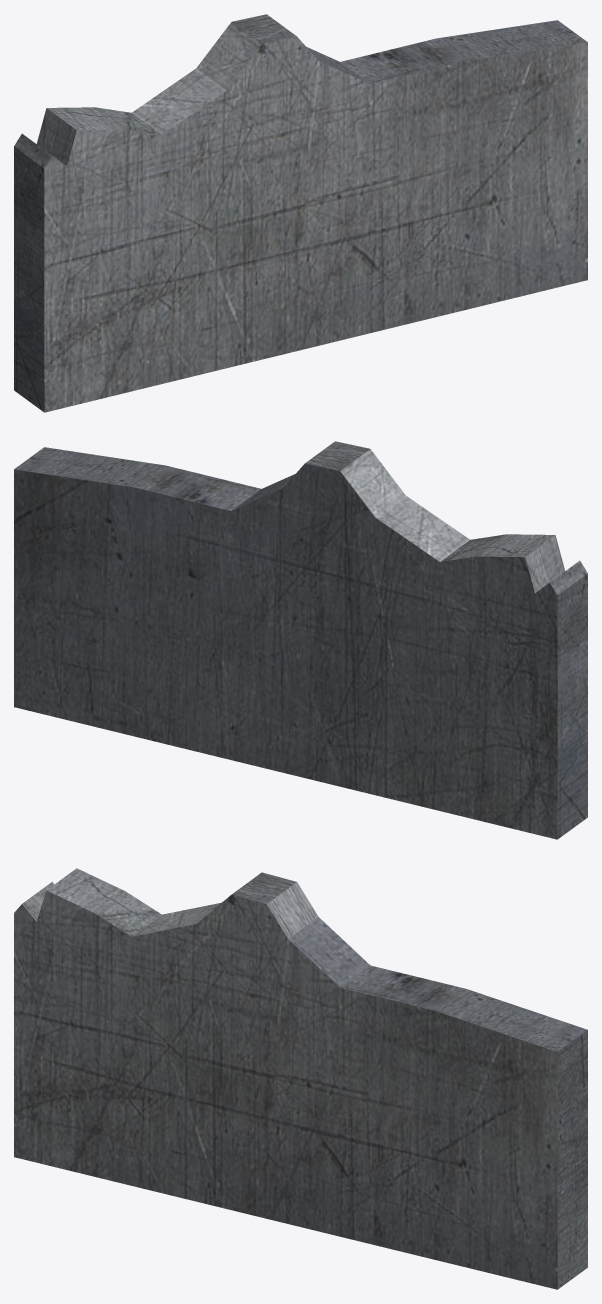
The model's file is wall1.FBX.
3 views of the same model, one above another, from view 1: azimuth 30°, elevation 25°; view 2: azimuth 150°, elevation 25°; view 3: azimuth 330°, elevation 25° (orthographic).
Visible parts, largest first — view 1: Line001; view 2: Line001; view 3: Line001.
Part boxes in pixels (bbox=[...]): Line001: bbox=[14, 14, 587, 412]; Line001: bbox=[14, 441, 587, 839]; Line001: bbox=[14, 868, 587, 1289].
Size of the model in its own units: 378 by 210 by 36.6.
Materials: 1 (1 with a texture image).
